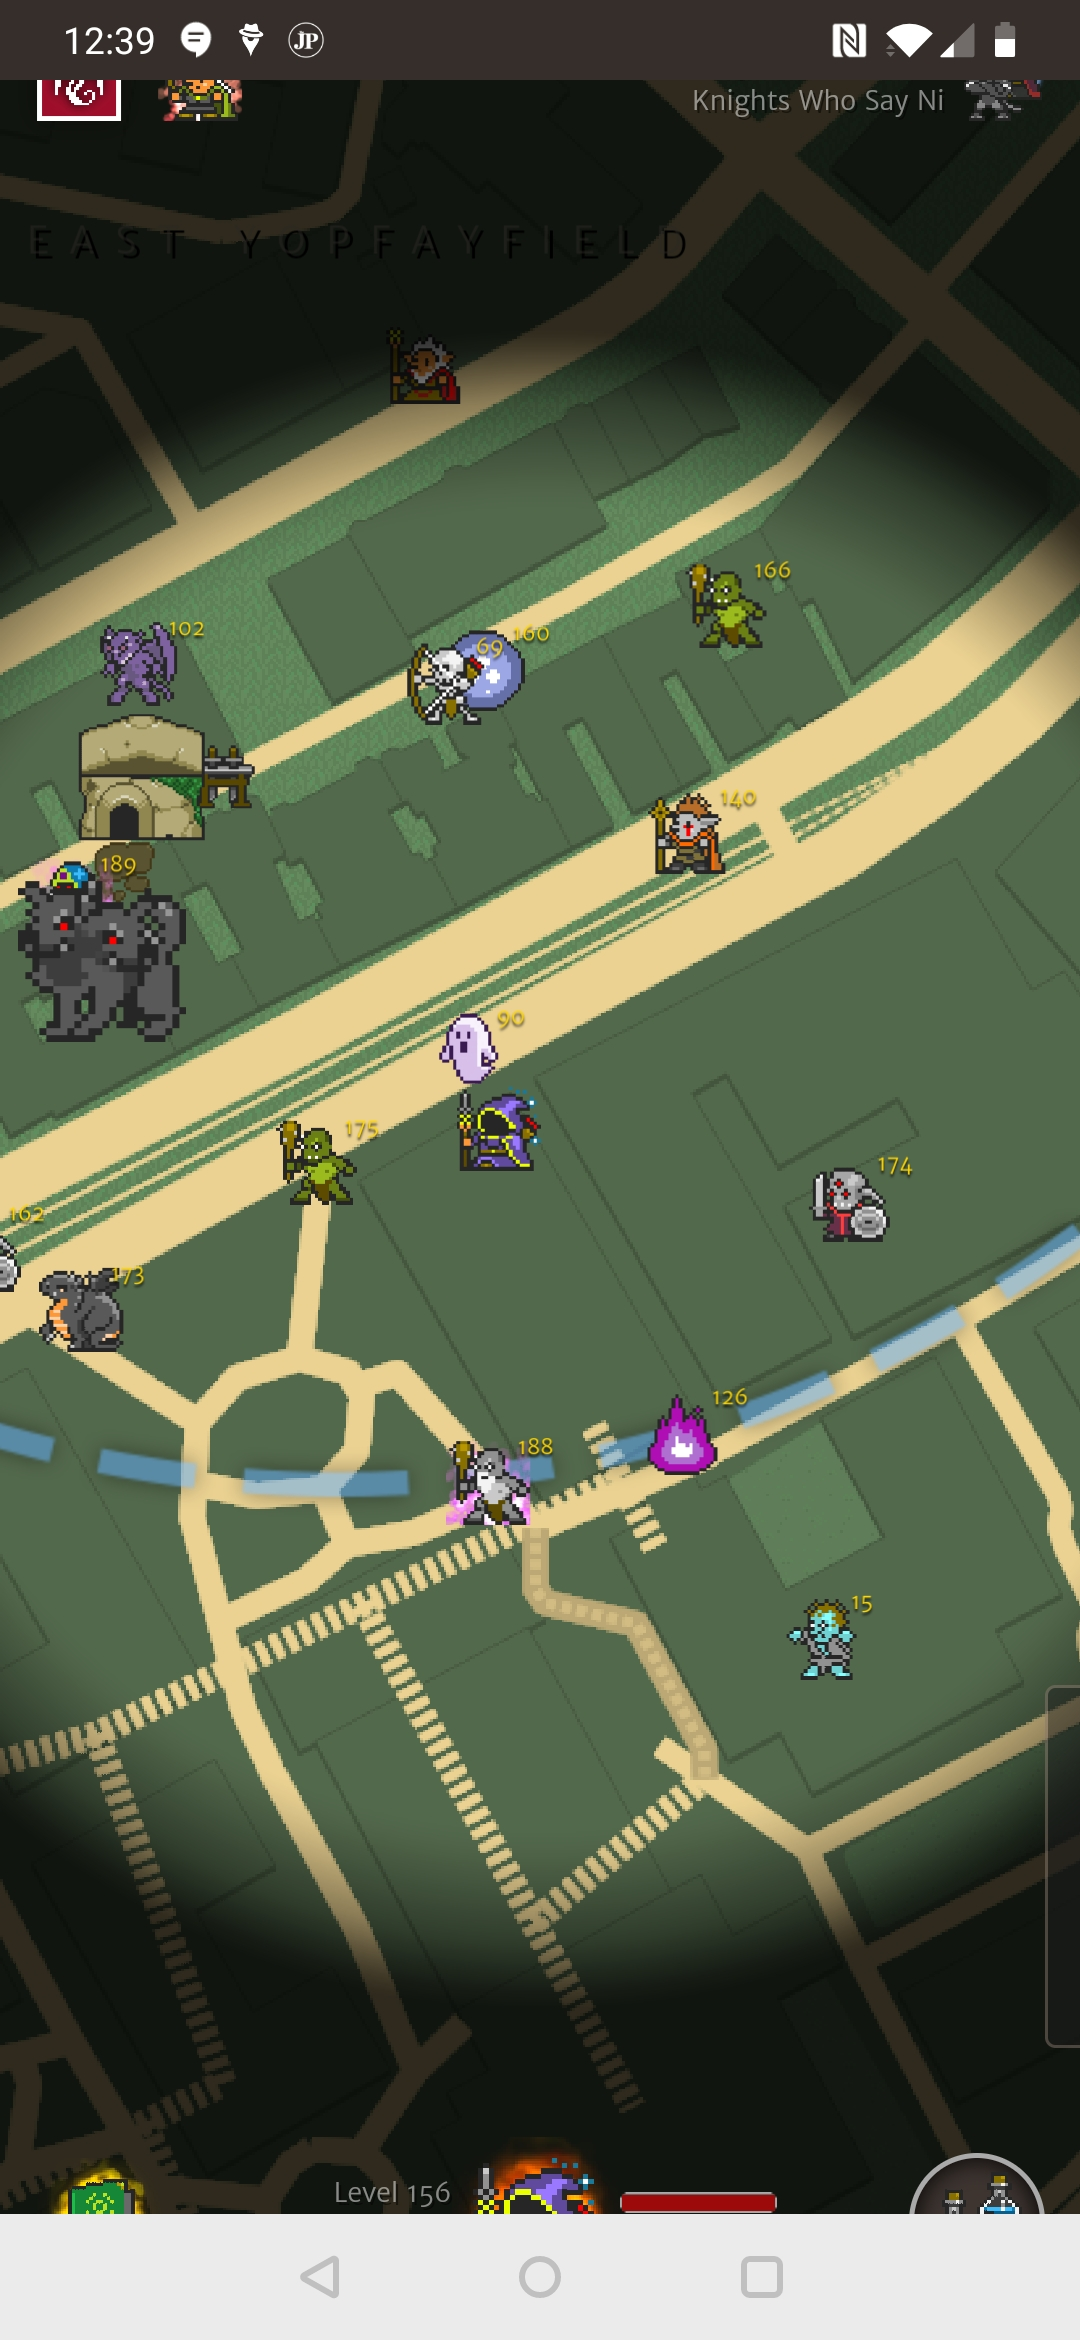monster: (82, 607, 215, 722), (441, 1434, 576, 1536), (680, 558, 800, 670), (635, 1379, 749, 1493), (396, 628, 514, 736), (635, 785, 757, 891), (31, 1261, 146, 1361), (808, 1150, 916, 1256), (269, 1119, 380, 1213), (437, 1005, 537, 1097), (443, 628, 557, 709), (784, 1591, 880, 1685)
player: (446, 1094, 544, 1181)
